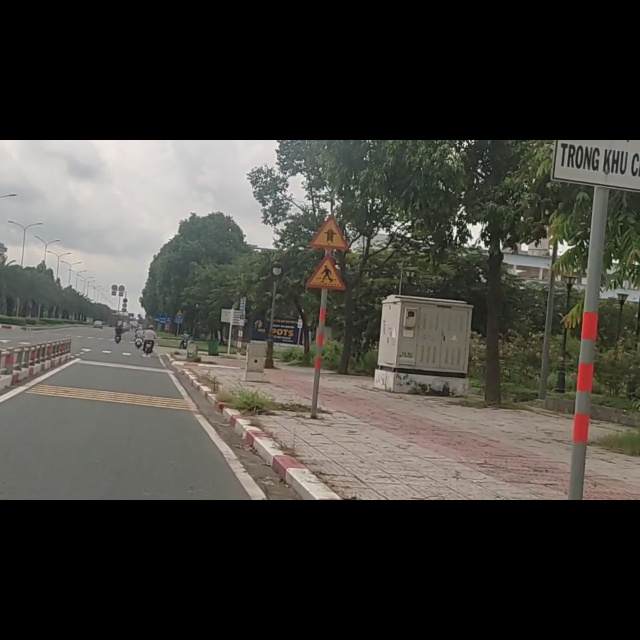bien_nguy_hiem: (305, 205, 344, 268), (309, 135, 349, 196)
